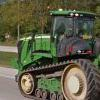Tractor: (14, 4, 100, 100)
